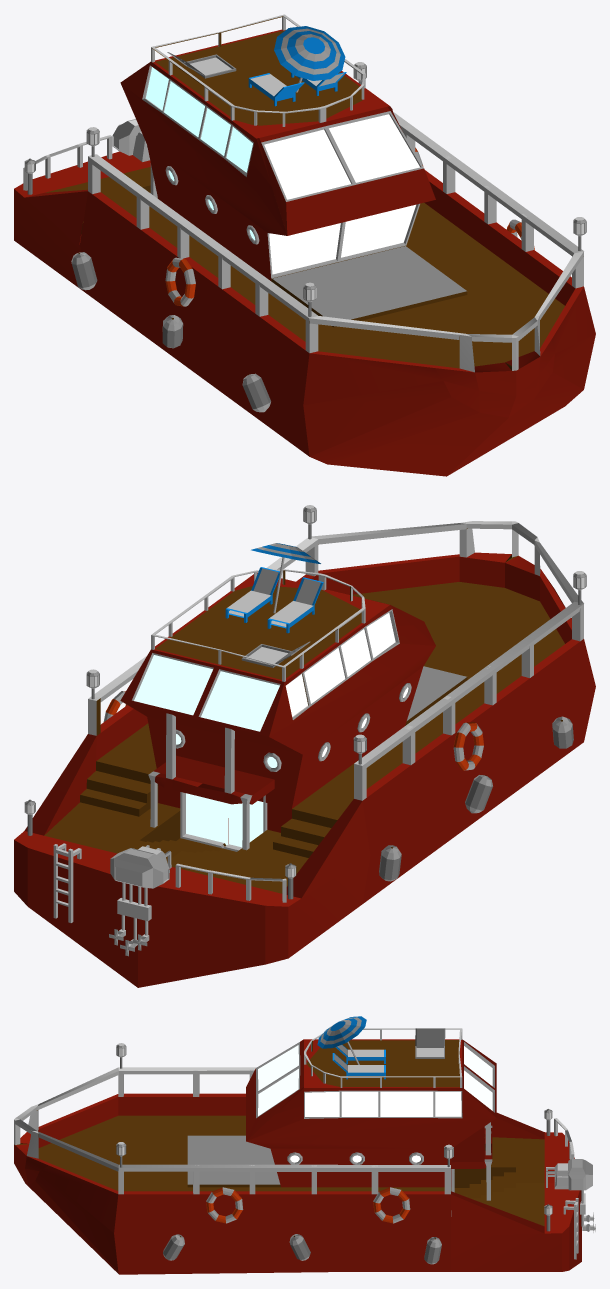
Rendered from boat.gltf.
3 renders of one model, top to bottom at view 1: azimuth 30°, elevation 25°; view 2: azimuth 150°, elevation 25°; view 3: azimuth 270°, elevation 25°, orthographic. The views are drawn at different scales.
Bounding box in the file's own units: 0.125 × 0.1185 × 0.2555.
